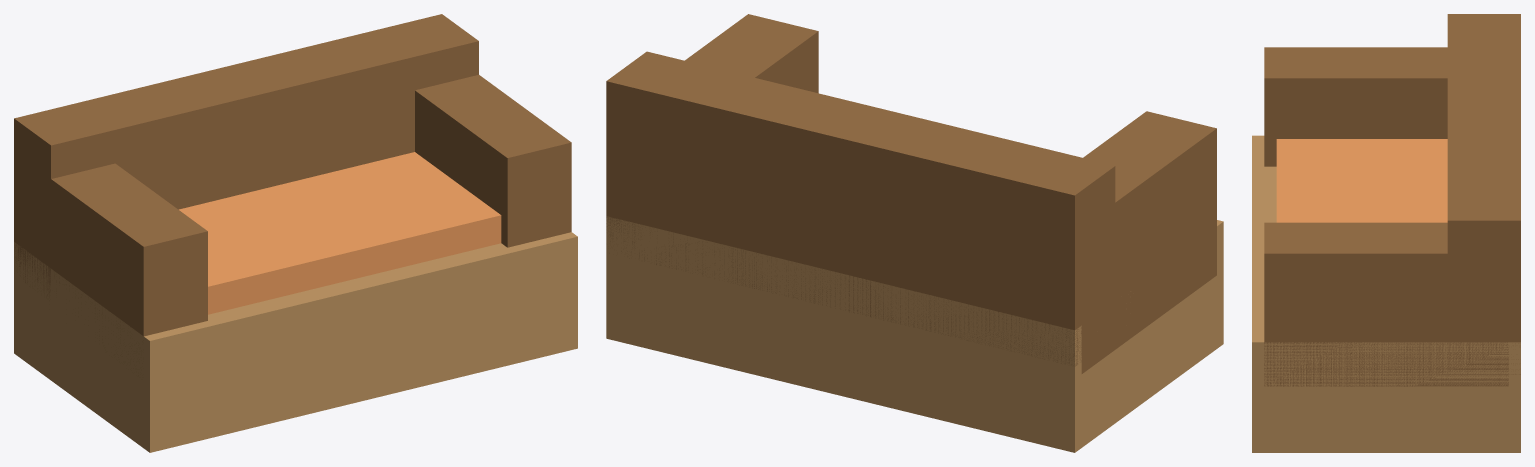
The model's file is love_seat.glb.
3 renders of one model, left to right at view 1: azimuth 30°, elevation 25°; view 2: azimuth 150°, elevation 25°; view 3: azimuth 270°, elevation 25°, orthographic. The views are drawn at different scales.
Visible parts, largest first — view 1: love_seat; view 2: love_seat; view 3: love_seat.
Part boxes in pixels (x1,y1,x2,y2): love_seat: (14, 14, 577, 452); love_seat: (606, 14, 1223, 452); love_seat: (1252, 14, 1520, 452).
Size of the model in its own units: 40 by 21 by 22.
